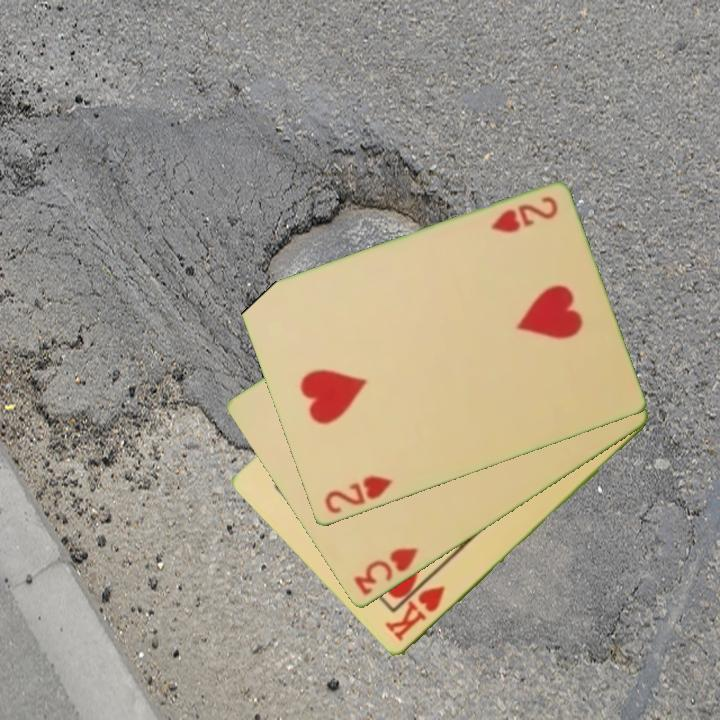2h: (321, 472, 395, 518), (487, 193, 561, 237)
3h: (350, 544, 421, 599)
Kh: (382, 583, 448, 645)
